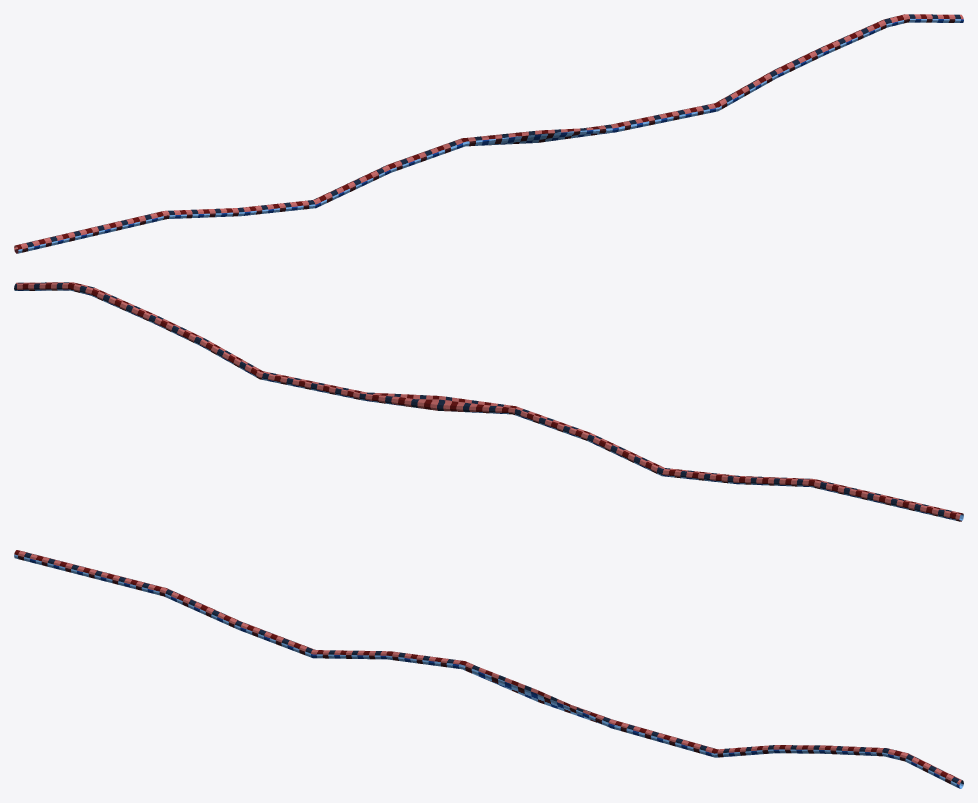
File: Wire_med_02.fbx
3 renders of one model, top to bottom at view 1: azimuth 30°, elevation 25°; view 2: azimuth 150°, elevation 25°; view 3: azimuth 330°, elevation 25°, orthographic.
Parts seen in each view (by area): view 1: wire_medium_02; view 2: wire_medium_02; view 3: wire_medium_02.
Part boxes in pixels (x1=…): wire_medium_02: x1=14, y1=14, x2=963, y2=253; wire_medium_02: x1=14, y1=282, x2=963, y2=521; wire_medium_02: x1=14, y1=550, x2=963, y2=788.
Bounding box in the file's own units: 500 × 25.69 × 4.19.
1 material, 1 textured.
